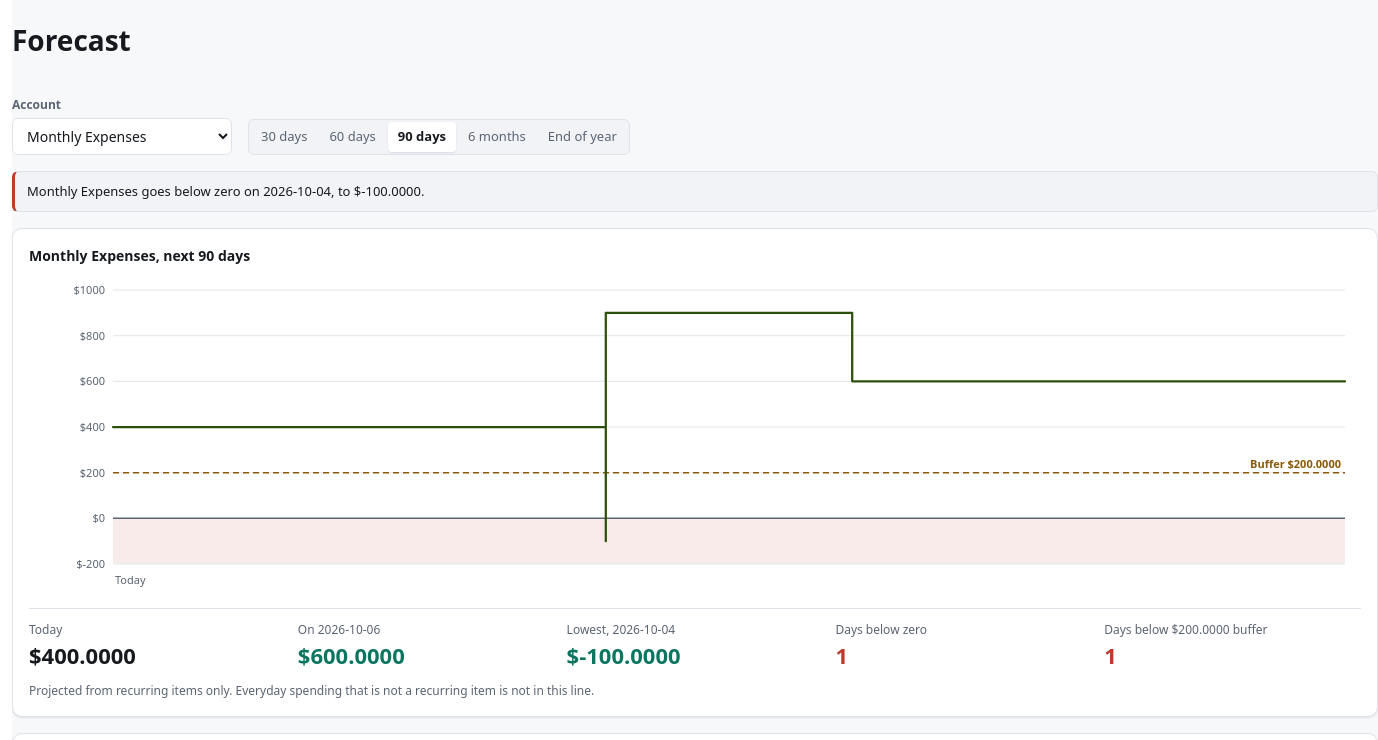
ForecastPage › shows the error and keeps the last chart when a refetch fails
Expected: the heading "Monthly Expenses, next 90 days" is shown, left=29, top=245, right=250, bottom=266
Click the button "30 days" at (284,137), box left=251, top=122, right=317, bottom=152
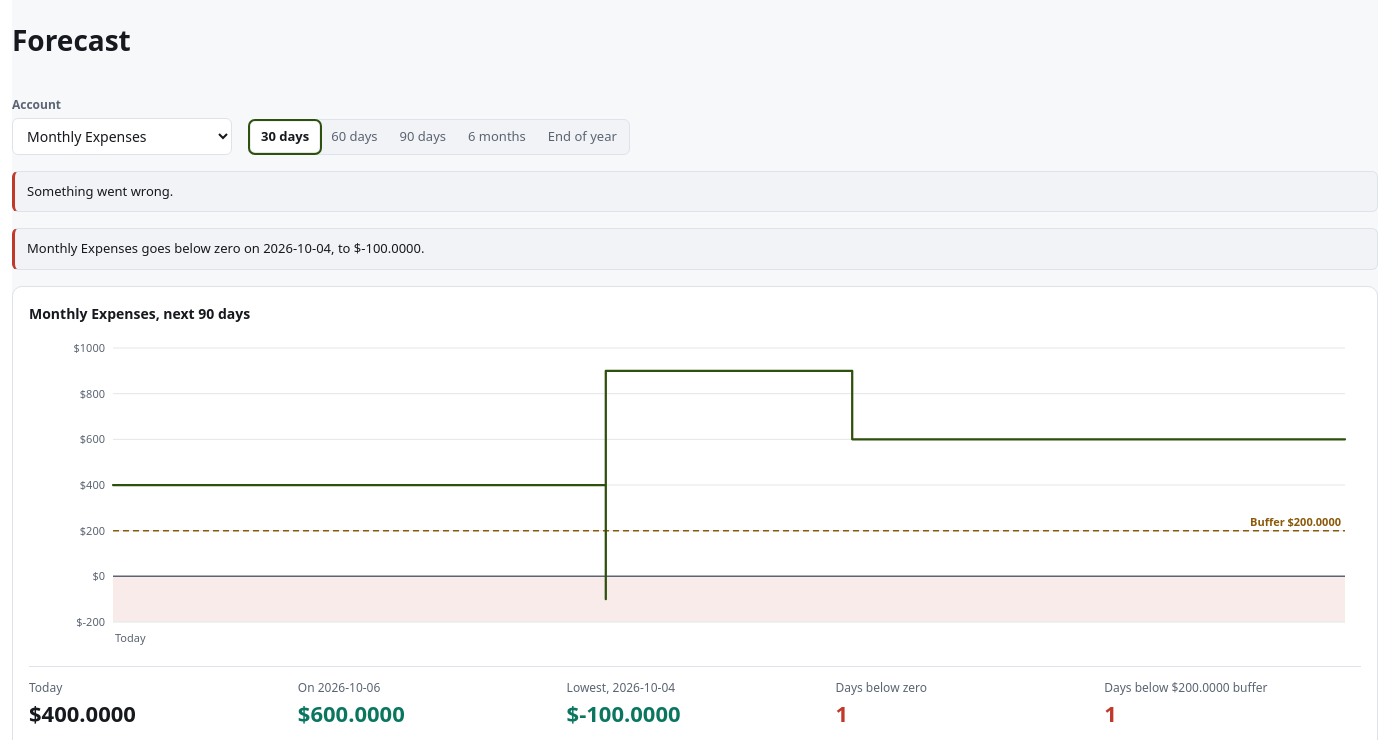
Expected: the heading "Monthly Expenses, next 90 days" is shown, left=29, top=302, right=250, bottom=324
Expected: the message "Something went wrong." is shown, left=12, top=170, right=1377, bottom=212
